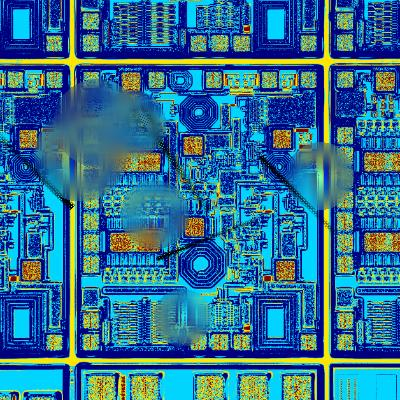Die: (74, 63, 324, 358)
Pad 1: (137, 233, 160, 252), (137, 153, 160, 171), (108, 153, 131, 171), (110, 233, 131, 252), (276, 261, 295, 280), (185, 218, 204, 236), (184, 137, 202, 155), (273, 130, 291, 148), (122, 73, 140, 91)
Pad 2: (83, 189, 99, 209), (83, 127, 100, 145), (83, 147, 99, 166), (83, 169, 99, 188), (83, 255, 99, 273), (83, 234, 99, 252), (83, 212, 99, 230), (83, 312, 99, 329), (206, 72, 222, 88), (83, 334, 99, 350), (83, 72, 99, 88), (301, 334, 317, 350), (212, 334, 228, 350), (234, 334, 250, 350), (300, 153, 316, 169), (301, 72, 316, 88), (149, 72, 164, 88), (262, 72, 277, 88), (191, 334, 206, 350)
